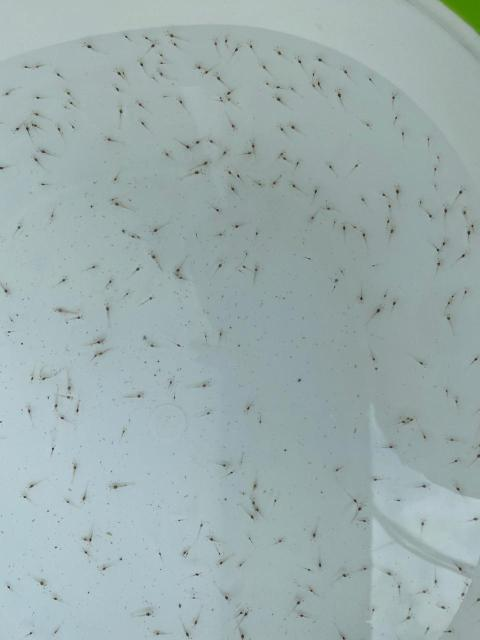benur: (271, 93, 289, 110), (148, 249, 162, 269), (369, 304, 385, 321), (453, 249, 470, 265), (216, 587, 231, 605), (411, 354, 429, 369), (340, 66, 355, 83), (334, 88, 346, 109), (149, 222, 167, 236), (452, 184, 465, 203), (289, 178, 304, 194), (110, 483, 131, 494), (242, 508, 256, 524), (82, 40, 98, 54), (452, 560, 466, 576), (326, 161, 339, 178), (0, 88, 17, 101), (389, 298, 400, 318), (97, 563, 115, 575), (202, 65, 216, 80), (308, 208, 321, 224), (290, 596, 303, 612), (212, 260, 225, 276), (269, 174, 282, 190), (311, 521, 320, 543), (334, 570, 352, 581), (288, 122, 302, 136), (365, 73, 378, 88), (359, 117, 374, 130), (278, 124, 290, 140), (445, 312, 455, 331), (185, 169, 202, 180), (307, 585, 321, 598), (361, 231, 370, 251), (423, 207, 435, 222), (23, 124, 33, 142), (253, 265, 261, 287), (104, 302, 112, 324), (193, 381, 212, 390), (434, 259, 443, 278), (53, 308, 72, 317), (315, 76, 325, 93), (129, 265, 142, 278), (348, 162, 360, 176), (429, 242, 441, 256), (228, 182, 240, 196), (66, 374, 74, 395), (139, 294, 154, 305), (359, 194, 370, 209), (436, 602, 451, 613), (418, 517, 427, 535), (462, 284, 471, 302), (270, 493, 279, 511), (89, 339, 107, 348), (431, 568, 439, 588), (82, 264, 98, 274), (316, 553, 324, 573), (358, 283, 366, 303), (124, 392, 144, 400), (465, 226, 473, 246), (176, 260, 186, 276), (210, 204, 223, 216), (289, 86, 301, 99), (122, 33, 135, 45), (217, 556, 230, 568), (53, 70, 66, 82), (10, 124, 21, 138), (22, 628, 36, 639), (358, 564, 372, 575), (30, 120, 44, 131), (347, 491, 358, 505), (415, 483, 432, 492), (56, 124, 65, 141), (459, 583, 468, 600), (130, 389, 147, 398), (81, 486, 89, 505), (243, 399, 253, 414), (112, 201, 127, 211), (419, 426, 428, 442), (64, 88, 76, 100), (121, 288, 133, 300), (388, 225, 396, 243), (246, 401, 255, 417), (237, 624, 246, 640), (337, 628, 349, 640), (369, 474, 385, 483), (51, 625, 62, 638), (103, 277, 114, 290), (236, 558, 247, 571), (452, 482, 463, 495), (226, 87, 239, 98), (469, 353, 480, 366), (157, 67, 168, 80), (331, 466, 344, 477), (332, 464, 346, 474), (71, 460, 78, 480), (383, 569, 397, 579), (254, 503, 264, 517), (312, 183, 320, 200), (120, 424, 128, 441), (197, 521, 205, 538), (452, 393, 460, 410), (369, 348, 377, 365), (391, 112, 400, 127), (70, 315, 85, 324), (166, 32, 181, 41), (224, 467, 236, 478), (262, 77, 273, 89), (272, 536, 285, 546), (448, 457, 461, 467), (205, 534, 218, 544), (200, 159, 213, 169), (68, 119, 78, 132), (31, 109, 44, 119), (354, 503, 364, 516), (461, 206, 469, 222), (444, 436, 460, 444), (390, 92, 397, 110), (422, 625, 431, 639), (396, 582, 403, 600), (200, 410, 214, 419), (252, 476, 259, 494), (188, 570, 202, 579), (257, 411, 264, 429), (471, 451, 480, 465), (416, 588, 430, 597), (398, 580, 405, 598), (97, 348, 111, 357), (84, 482, 91, 500), (81, 548, 92, 559), (171, 39, 182, 50), (222, 35, 230, 50), (231, 222, 246, 230), (225, 167, 235, 179), (470, 595, 480, 607), (194, 63, 206, 73), (468, 513, 480, 523), (88, 525, 94, 545), (64, 498, 77, 507), (400, 616, 413, 625), (62, 392, 75, 401), (309, 80, 318, 93), (431, 164, 438, 180), (425, 135, 432, 151), (399, 128, 406, 144), (441, 629, 455, 637), (384, 444, 398, 452), (165, 377, 173, 391), (394, 185, 401, 201), (27, 367, 34, 383), (29, 154, 40, 164), (380, 189, 391, 199), (234, 609, 244, 620), (68, 99, 79, 109), (302, 565, 314, 574), (246, 534, 255, 546), (440, 238, 449, 250), (443, 385, 450, 400), (385, 217, 392, 232), (457, 602, 464, 617), (369, 605, 377, 618), (212, 232, 225, 240), (392, 496, 405, 504), (357, 516, 370, 524), (444, 300, 452, 313), (271, 83, 284, 91), (341, 221, 347, 238), (470, 220, 476, 237), (173, 341, 184, 350), (293, 377, 304, 386), (239, 264, 250, 273), (144, 32, 155, 41), (465, 577, 474, 588), (33, 95, 47, 102), (157, 550, 164, 564), (310, 68, 317, 82), (436, 151, 443, 165), (387, 202, 394, 216), (172, 389, 179, 403), (29, 369, 35, 385), (236, 489, 248, 497), (331, 282, 339, 294), (134, 235, 146, 243), (236, 170, 244, 182), (442, 204, 449, 217), (33, 64, 46, 71), (417, 198, 424, 211), (137, 118, 146, 128), (215, 97, 225, 106), (88, 353, 97, 363), (217, 329, 223, 344), (244, 607, 252, 618), (302, 254, 313, 262), (21, 64, 32, 72), (87, 203, 98, 211), (174, 514, 185, 522), (295, 610, 306, 618), (235, 268, 246, 276), (91, 530, 96, 547), (432, 181, 439, 193), (382, 288, 389, 300), (214, 545, 221, 557), (254, 229, 260, 243), (148, 343, 160, 350), (368, 263, 380, 270), (406, 602, 413, 614), (40, 377, 52, 384), (251, 494, 257, 508), (217, 461, 229, 468), (59, 275, 68, 284), (213, 72, 222, 81), (273, 46, 282, 55), (135, 100, 144, 109), (226, 97, 235, 106), (349, 222, 358, 231), (371, 362, 380, 371), (314, 56, 324, 64), (156, 60, 166, 68), (248, 138, 256, 148), (332, 217, 338, 230), (171, 388, 177, 401), (191, 619, 198, 630), (450, 290, 457, 301), (160, 94, 171, 101), (39, 582, 48, 590), (294, 56, 302, 65), (212, 38, 218, 50), (258, 61, 266, 70), (184, 631, 192, 640), (150, 40, 159, 48), (129, 234, 138, 242), (120, 226, 128, 235), (235, 43, 242, 53), (223, 146, 230, 156), (144, 611, 154, 618), (7, 314, 14, 324), (37, 147, 47, 154), (178, 276, 188, 283), (117, 104, 123, 115), (204, 332, 209, 345), (49, 212, 56, 221), (16, 223, 23, 232), (19, 493, 28, 500), (111, 175, 118, 184), (25, 405, 32, 414), (192, 141, 201, 148), (80, 535, 89, 542), (473, 408, 480, 417), (4, 288, 11, 297), (137, 58, 143, 68), (0, 418, 5, 430), (340, 269, 346, 279), (243, 250, 249, 260), (176, 97, 183, 105), (246, 41, 253, 49), (231, 124, 238, 132), (4, 582, 12, 589), (161, 150, 169, 157), (52, 404, 59, 412), (186, 145, 193, 153), (26, 484, 34, 491), (179, 551, 187, 558), (113, 68, 121, 75), (476, 423, 480, 437), (90, 179, 98, 186), (103, 136, 112, 142), (322, 205, 331, 211), (0, 528, 6, 537), (192, 593, 201, 599), (295, 158, 302, 165), (153, 632, 160, 639), (206, 137, 213, 144), (112, 84, 119, 91), (258, 181, 265, 188), (62, 105, 69, 112), (68, 487, 75, 494), (56, 414, 64, 420), (247, 149, 255, 155), (109, 199, 117, 205), (262, 488, 268, 496), (474, 443, 480, 451), (409, 416, 418, 421), (4, 329, 15, 333), (156, 51, 163, 57), (191, 591, 198, 597), (169, 81, 176, 87), (0, 435, 7, 441), (280, 149, 286, 156), (74, 408, 79, 416), (120, 67, 125, 75), (128, 416, 132, 426), (401, 420, 410, 424), (0, 165, 6, 171), (150, 75, 156, 81), (51, 444, 56, 451), (50, 596, 57, 601), (282, 157, 289, 162), (37, 182, 44, 187), (320, 491, 324, 498), (46, 395, 51, 400)
